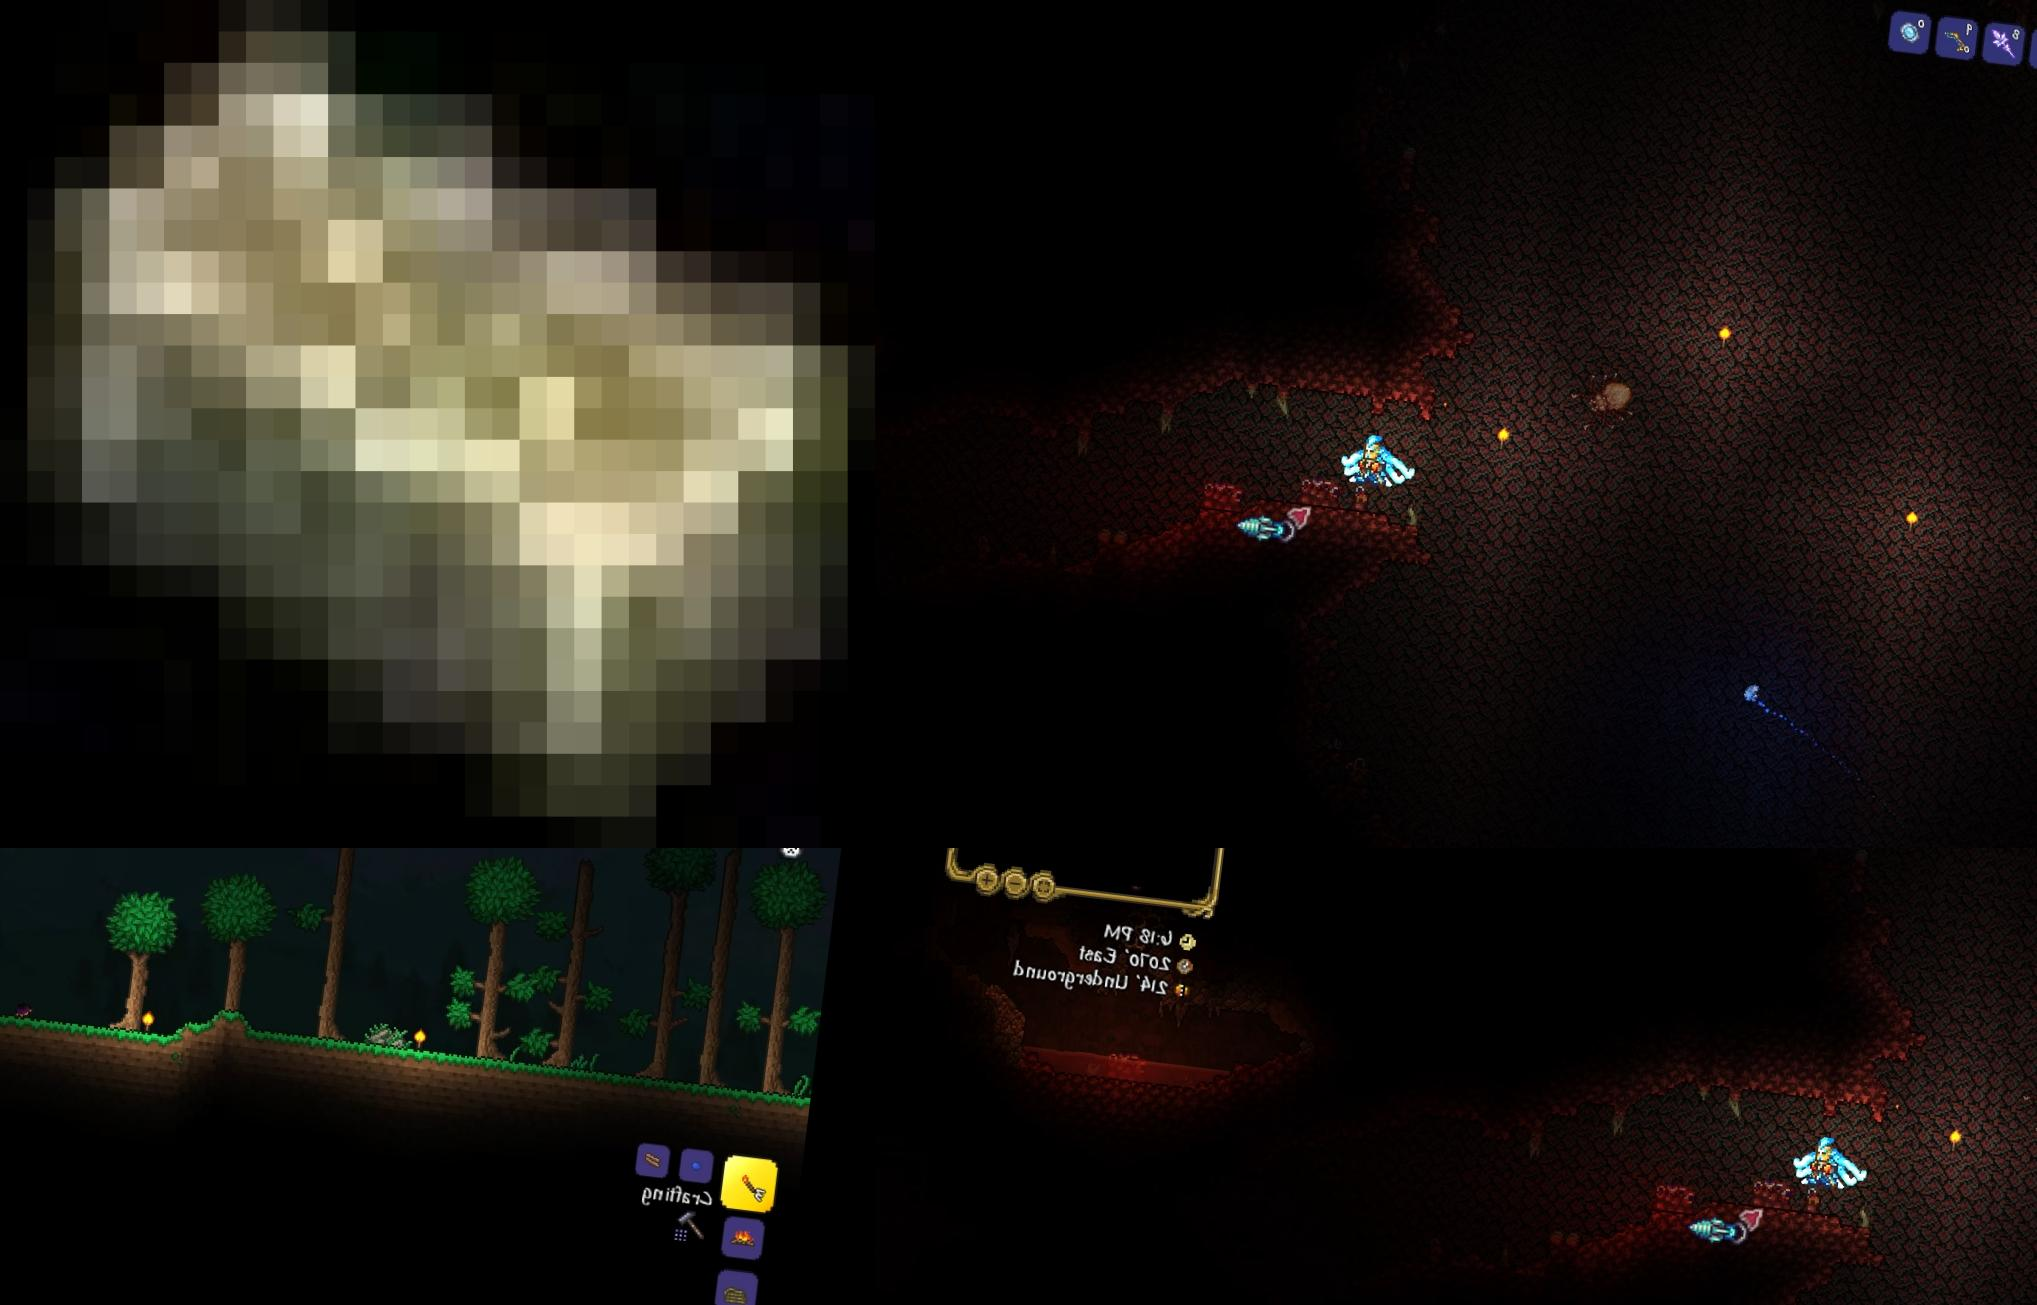bar: (0, 0, 874, 848)
spider: (1562, 353, 1652, 442), (2015, 1056, 2037, 1145)
